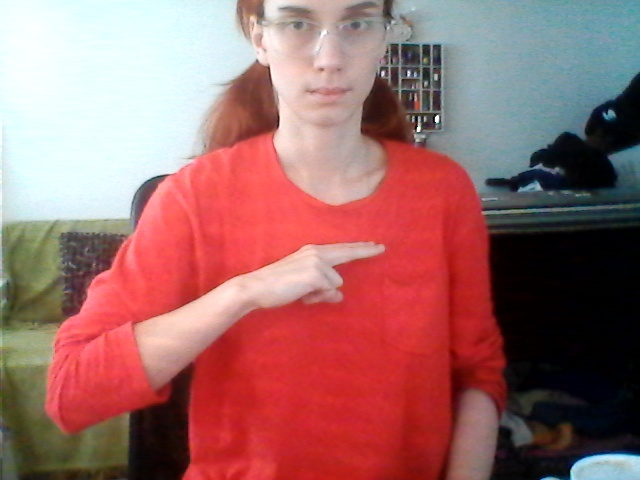frajer: (255, 226, 407, 324)
